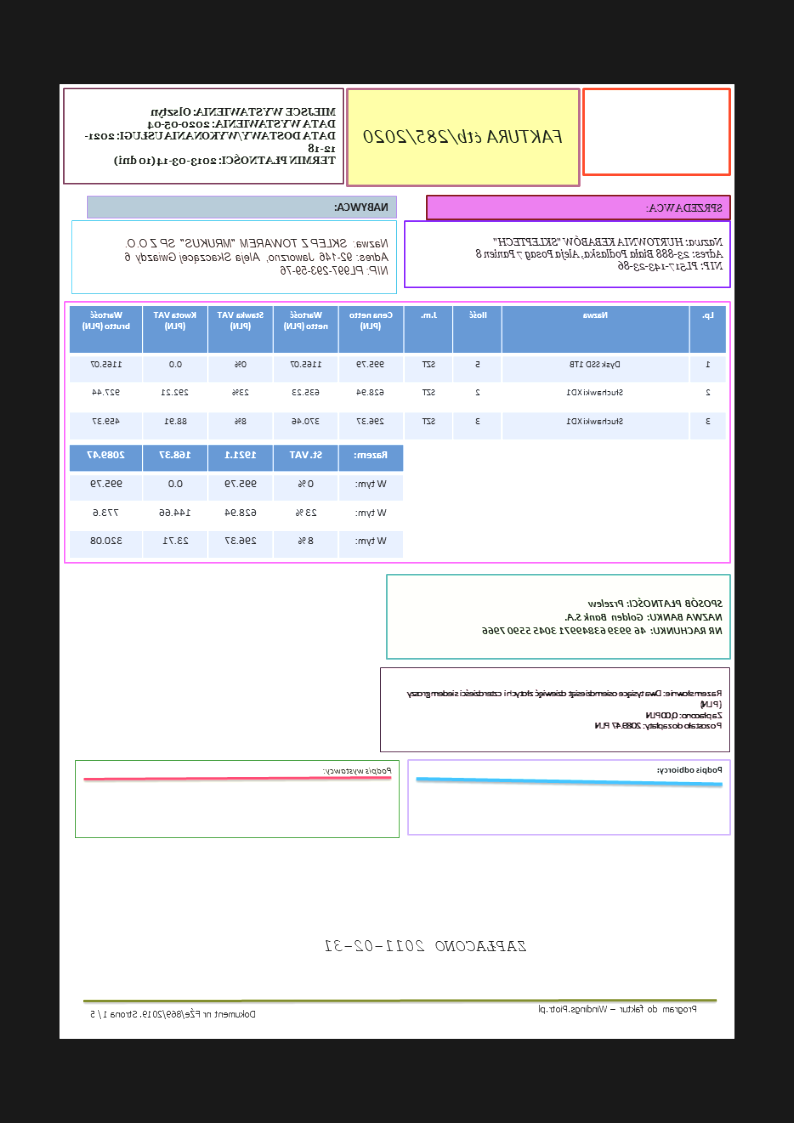Table: (70, 305, 728, 441), (68, 443, 406, 559)
TextBox: (83, 105, 338, 168), (405, 687, 725, 731), (122, 236, 390, 278), (480, 596, 724, 638), (476, 235, 725, 273), (362, 125, 564, 148), (322, 938, 528, 955), (89, 1006, 258, 1024), (537, 1003, 700, 1017), (644, 202, 725, 215), (653, 764, 726, 777), (333, 201, 390, 215), (322, 766, 394, 777)
